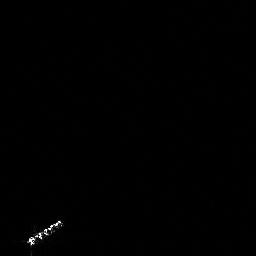ship: (23, 215, 66, 249)
